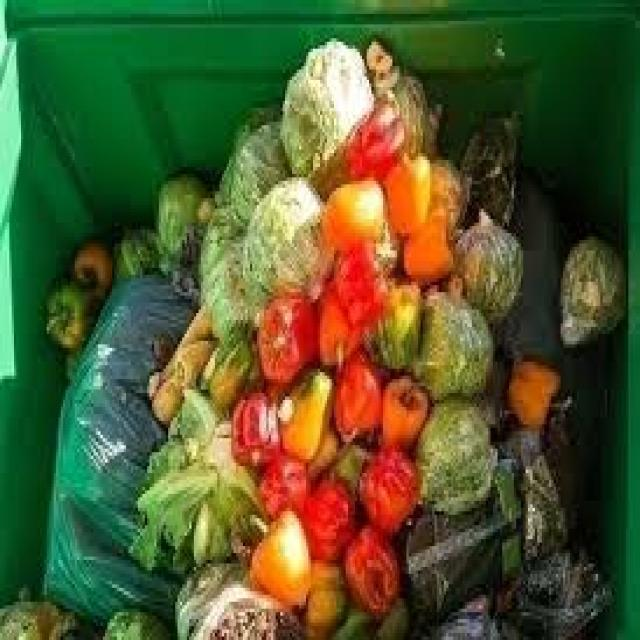Wet: (19, 7, 630, 640), (192, 123, 466, 596), (318, 138, 534, 314), (253, 9, 420, 178), (404, 380, 531, 530), (547, 196, 640, 374), (231, 166, 341, 310), (164, 539, 320, 640), (36, 221, 134, 377), (140, 138, 231, 304), (240, 485, 338, 611)
